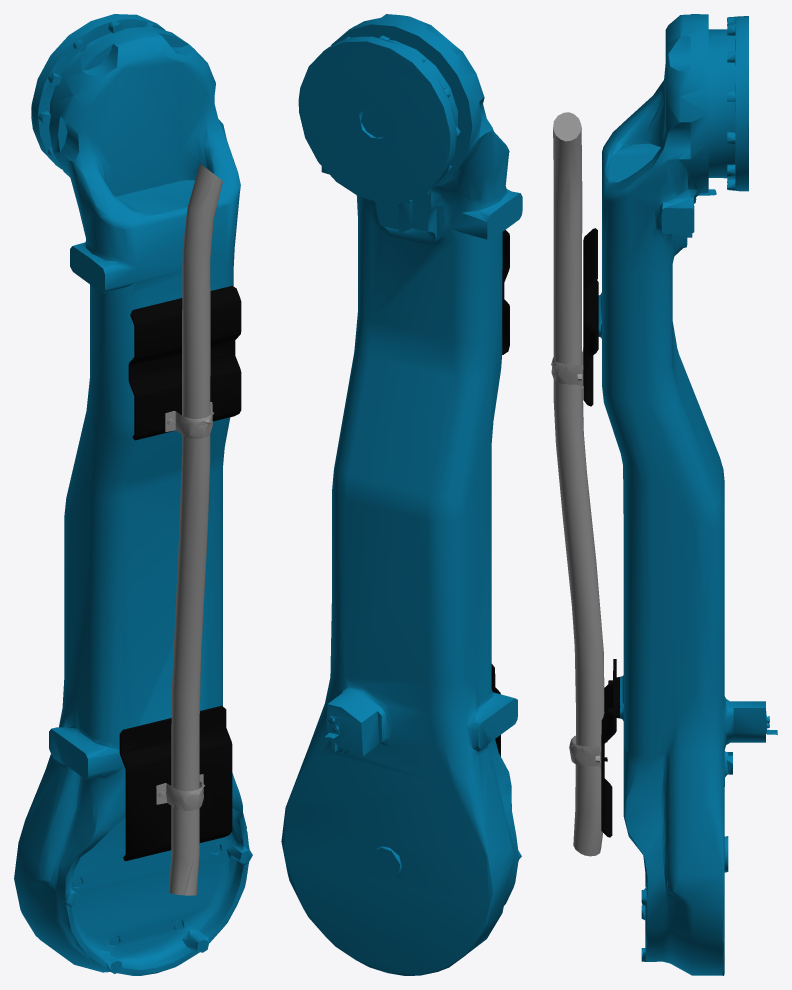
The picture shows the model from 3 angles, left to right: view 1: azimuth 30°, elevation 25°; view 2: azimuth 150°, elevation 25°; view 3: azimuth 270°, elevation 25°; orthographic projection.
Visible parts, largest first — view 1: gp20hl_lk2; view 2: gp20hl_lk2; view 3: gp20hl_lk2.
Boxes of the visible parts, left/top/right/bottom form: gp20hl_lk2: left=14, top=14, right=252, bottom=975; gp20hl_lk2: left=281, top=14, right=522, bottom=975; gp20hl_lk2: left=551, top=14, right=777, bottom=975.
Bounding box in the file's own units: 0.3404 × 0.3148 × 1.45.
